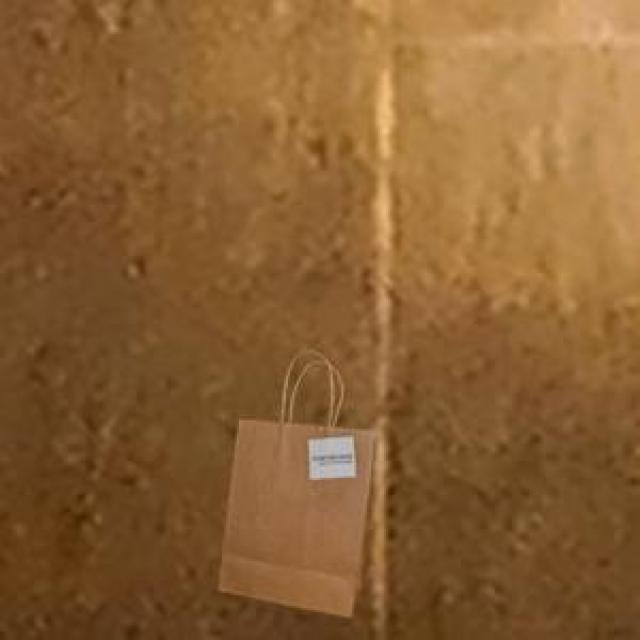paper: (216, 401, 371, 612)
